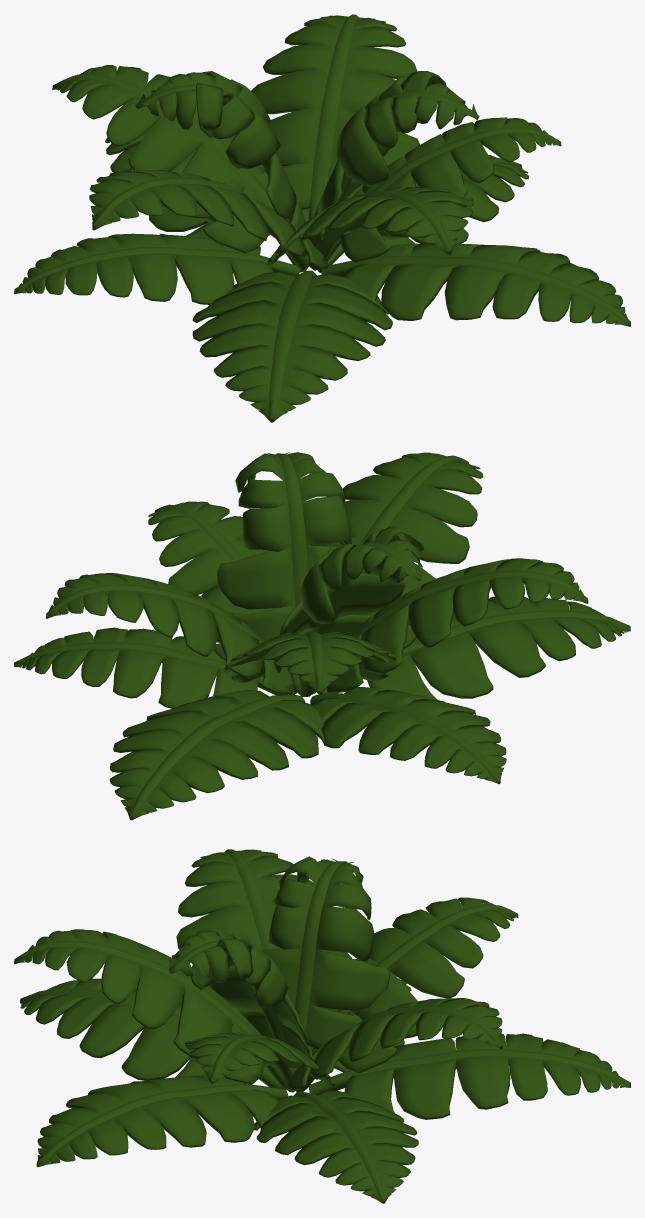
The model's file is Bush.fbx.
3 renders of one model, top to bottom at view 1: azimuth 30°, elevation 25°; view 2: azimuth 150°, elevation 25°; view 3: azimuth 270°, elevation 25°, orthographic. The views are drawn at different scales.
Parts seen in each view (by area): view 1: Bush; view 2: Bush; view 3: Bush.
Part boxes in pixels (bbox=[...]): Bush: bbox=[14, 14, 630, 422]; Bush: bbox=[14, 452, 630, 820]; Bush: bbox=[14, 849, 630, 1203].
Bounding box in the file's own units: 211 × 83.58 × 239.
